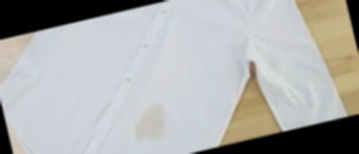coffee: (129, 101, 173, 145)
